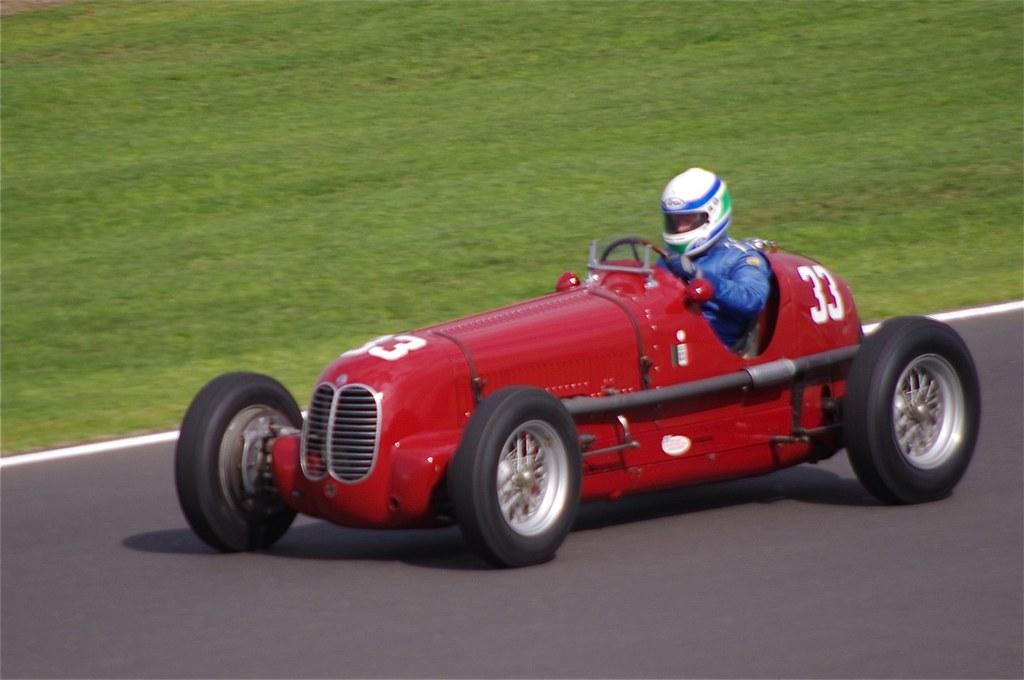helmet: (660, 167, 733, 257)
